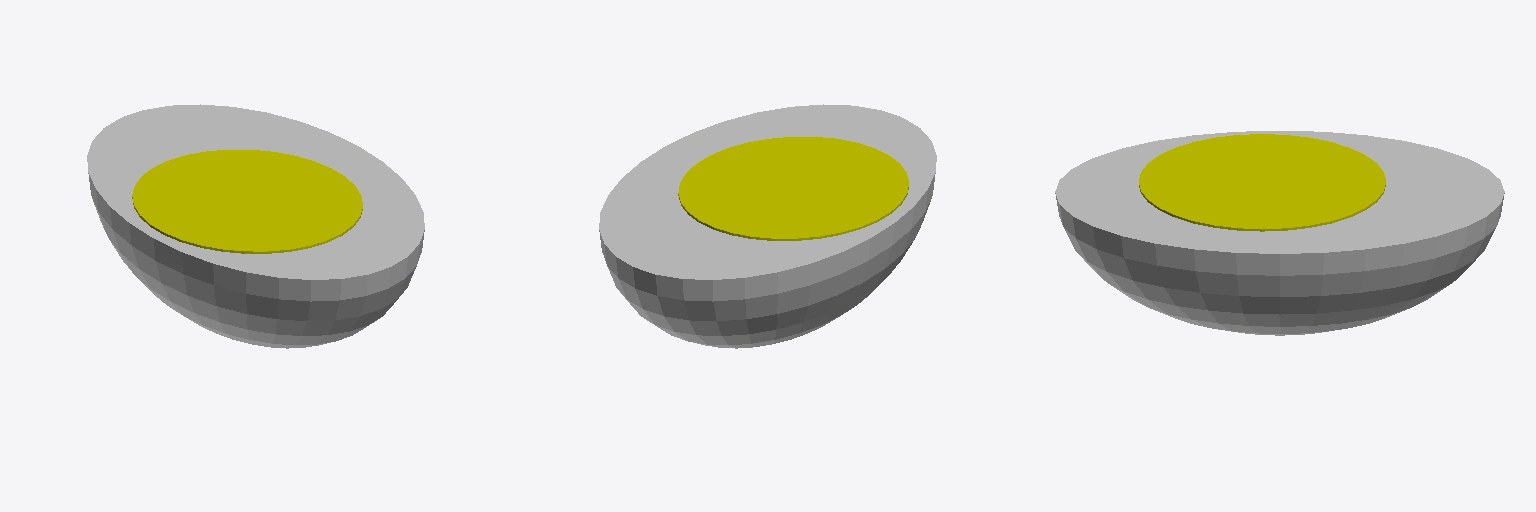
The model's file is egg.obj.
3 views of the same model, side by side, from view 1: azimuth 30°, elevation 25°; view 2: azimuth 150°, elevation 25°; view 3: azimuth 270°, elevation 25° (orthographic).
Visible parts, largest first — view 1: Sphere, Cylinder; view 2: Sphere, Cylinder; view 3: Sphere, Cylinder.
Boxes of the visible parts, <box> form: Sphere: <box>87,104,424,348</box>; Cylinder: <box>132,150,362,253</box>; Sphere: <box>599,104,936,348</box>; Cylinder: <box>678,137,908,240</box>; Sphere: <box>1055,131,1504,335</box>; Cylinder: <box>1139,134,1385,231</box>.
Size of the model in its own units: 1.3 by 0.6469 by 2.